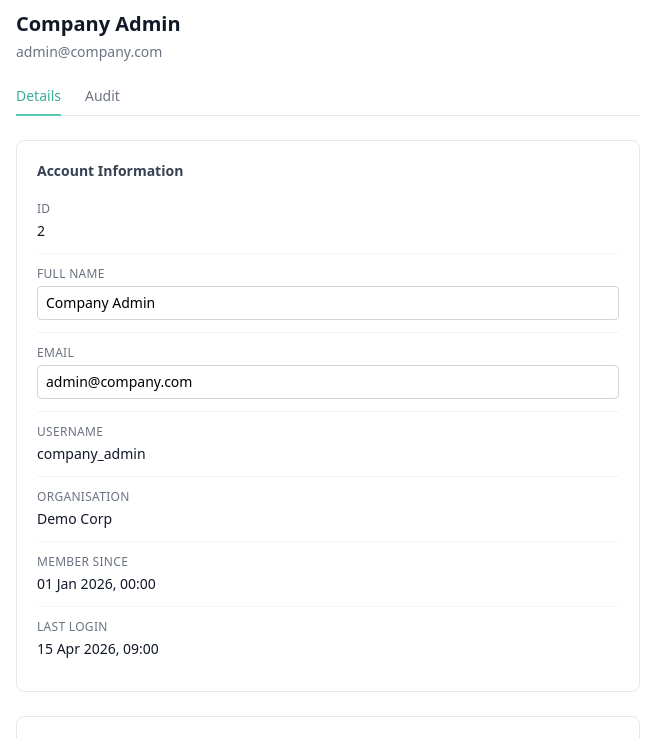
Scenario: T-SETTINGS-USERS-D06: audit tab shows AuditTable with events › shows error when audit fetch fails
Click the button with test id "tab-audit": (102, 101) [85,86,120,116]
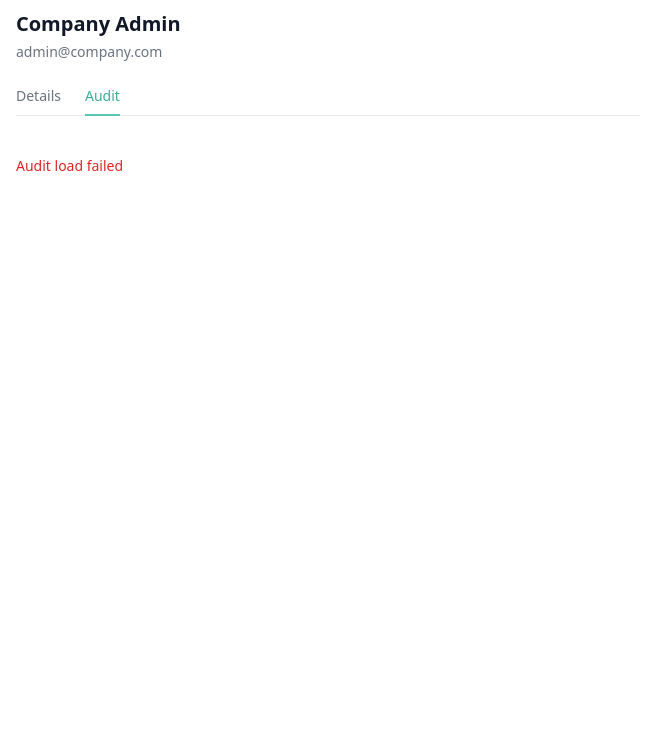
expect the text "Audit load failed" is shown: met, box [16,156,123,175]
